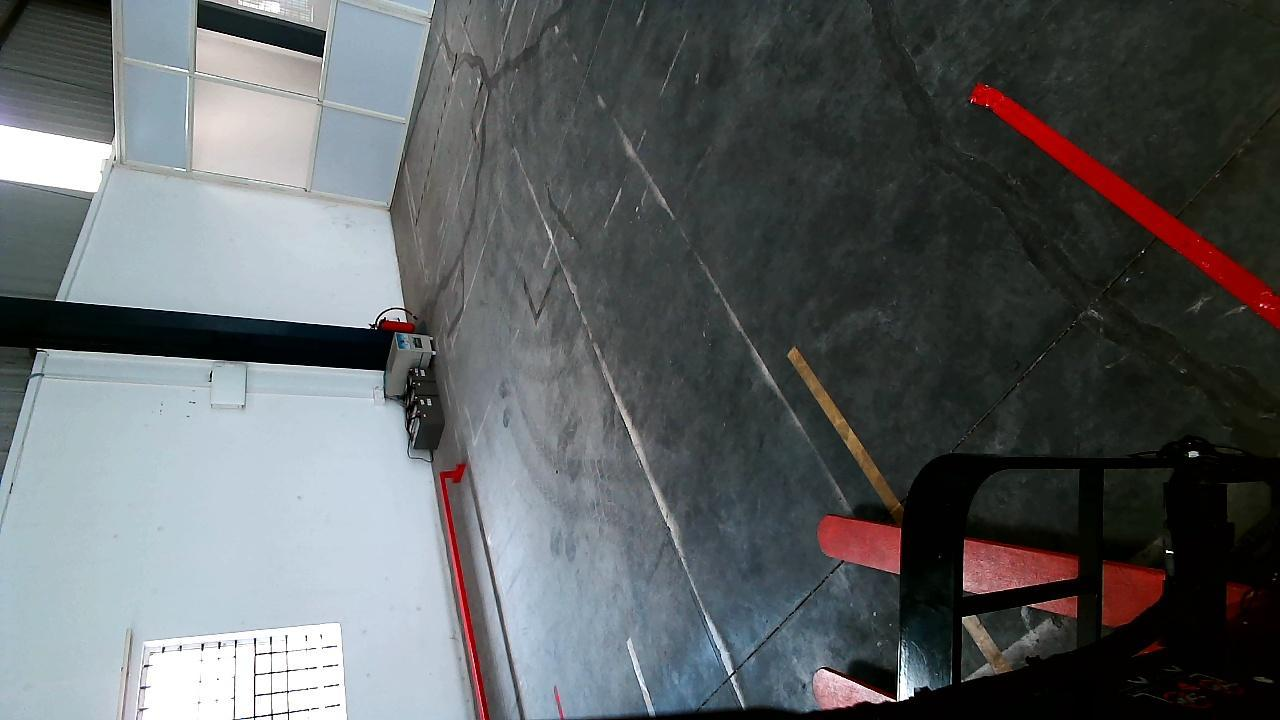red_line: (973, 81, 1278, 328)
yellow_line: (787, 348, 1005, 670)
